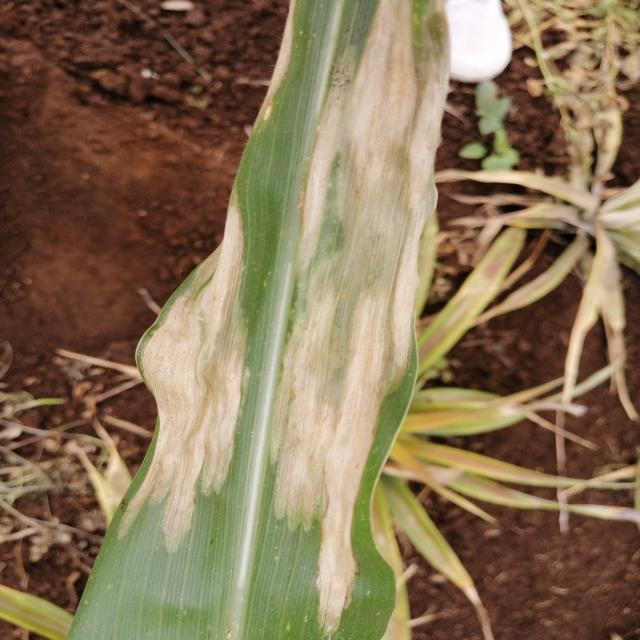Corn_Leaf_Blight: (132, 0, 448, 640)
